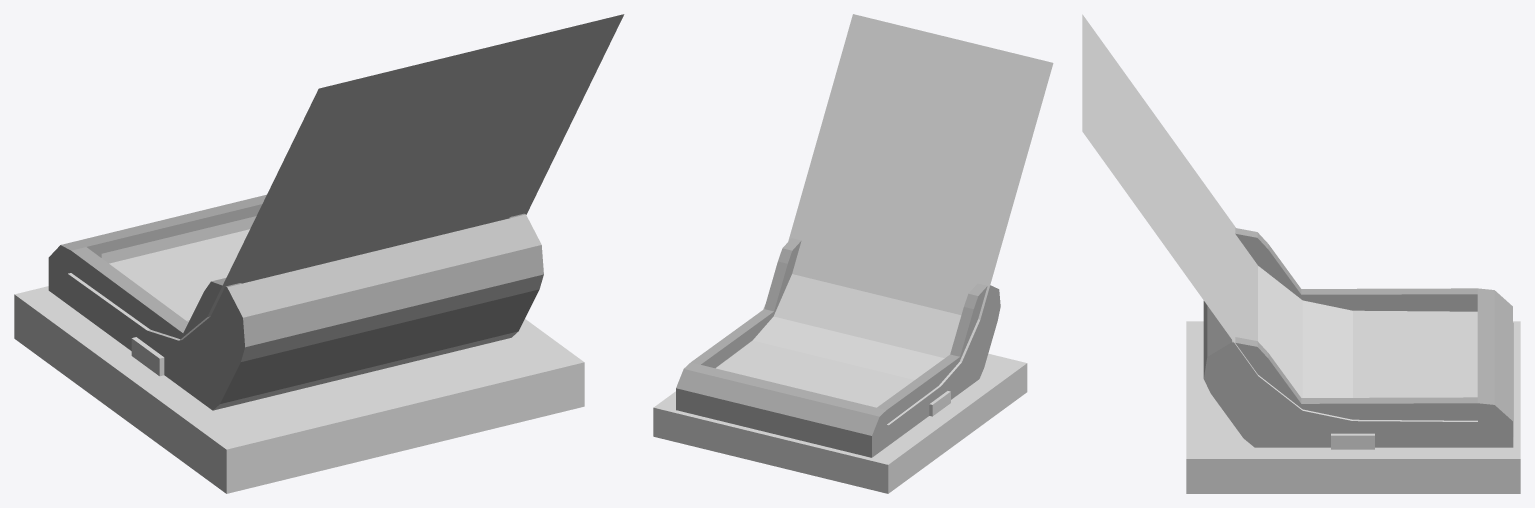
File: ConveyorElevatorPlatform.fbx
3 views of the same model, side by side, from view 1: azimuth 30°, elevation 25°; view 2: azimuth 150°, elevation 25°; view 3: azimuth 270°, elevation 25° (orthographic). The views are drawn at different scales.
Visible parts, largest first — view 1: Plane, RollerBase, ReferenceSize, light; view 2: Plane, RollerBase, ReferenceSize; view 3: Plane, RollerBase, ReferenceSize, light.
Part boxes in pixels (left/top/right/bottom): Plane: left=68, top=14, right=624, bottom=340; RollerBase: left=48, top=194, right=543, bottom=410; ReferenceSize: left=14, top=286, right=584, bottom=493; light: left=131, top=337, right=164, bottom=376; Plane: left=716, top=14, right=1053, bottom=425; RollerBase: left=676, top=238, right=1000, bottom=457; ReferenceSize: left=653, top=353, right=1027, bottom=493; Plane: left=1082, top=14, right=1477, bottom=421; RollerBase: left=1203, top=228, right=1513, bottom=447; ReferenceSize: left=1186, top=321, right=1520, bottom=493; light: left=1331, top=433, right=1374, bottom=449.
Bounding box in the file's own units: 169 × 202 × 227.
